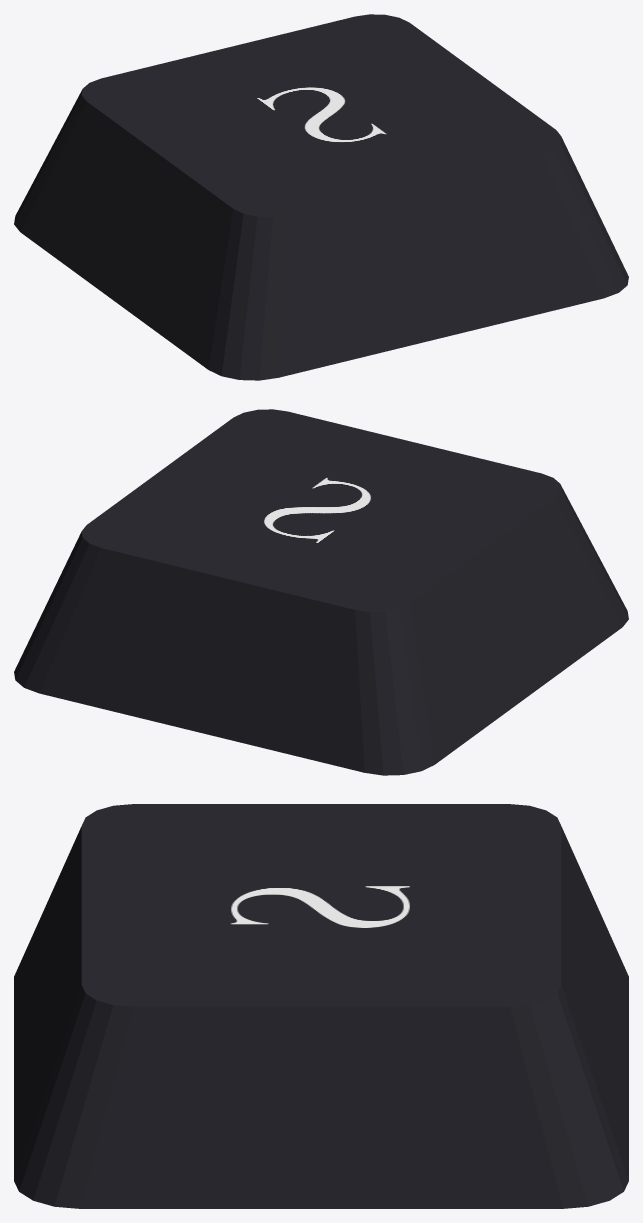
Rendered from KeyBoradS.obj.
3 renders of one model, top to bottom at view 1: azimuth 30°, elevation 25°; view 2: azimuth 150°, elevation 25°; view 3: azimuth 270°, elevation 25°, orthographic. The views are drawn at different scales.
Visible parts, largest first — view 1: key.001; view 2: key.001; view 3: key.001.
Boxes of the visible parts, x1,y1,x2,y2 form: key.001: (14,14,628,380); key.001: (14,409,628,775); key.001: (14,804,628,1208).
Bounding box in the file's own units: 2 × 0.6227 × 2.
Materials: 1 (1 with a texture image).
